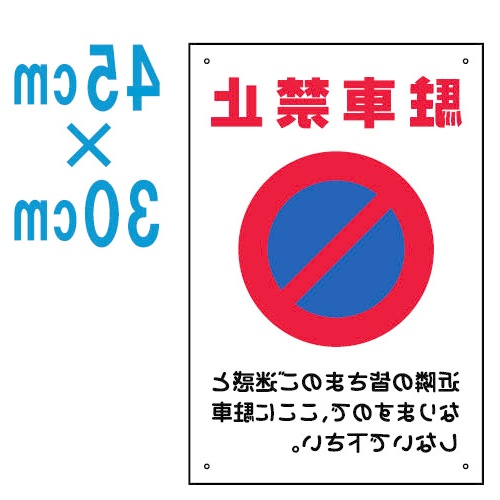Prohibition_sign: (223, 149, 449, 367)
